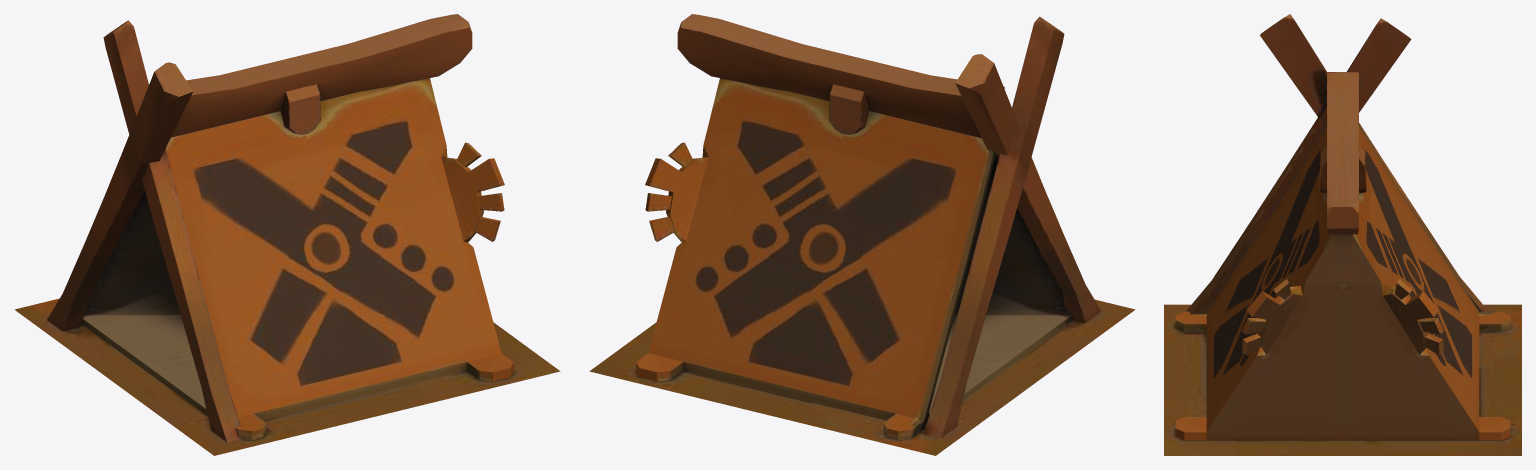
The model's file is BUD_Building_A 2.obj.
3 views of the same model, side by side, from view 1: azimuth 30°, elevation 25°; view 2: azimuth 150°, elevation 25°; view 3: azimuth 270°, elevation 25° (orthographic). The views are drawn at different scales.
Parts seen in each view (by area): view 1: BUD_Building_A 2; view 2: BUD_Building_A 2; view 3: BUD_Building_A 2.
Boxes of the visible parts, box(x1,y1,x2,y2) form: BUD_Building_A 2: box(14, 14, 560, 455); BUD_Building_A 2: box(589, 14, 1135, 455); BUD_Building_A 2: box(1164, 14, 1521, 455).
Size of the model in its own units: 3.63 by 3.34 by 3.6.
1 material, 1 textured.
